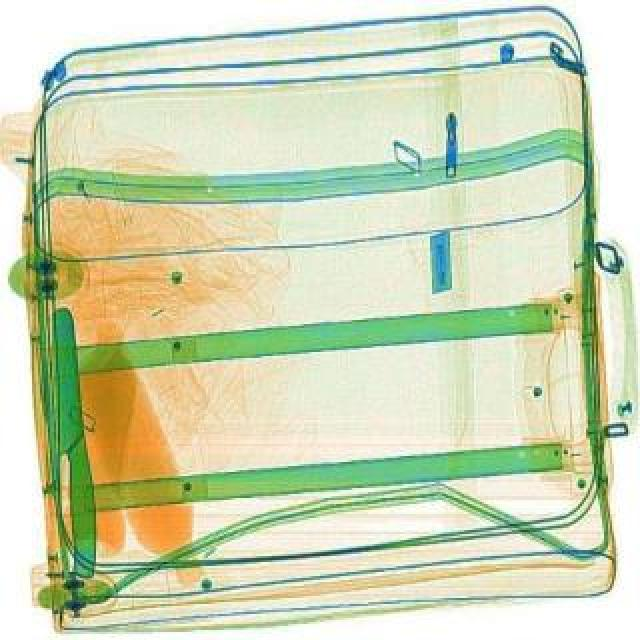knife: (26, 300, 104, 582)
